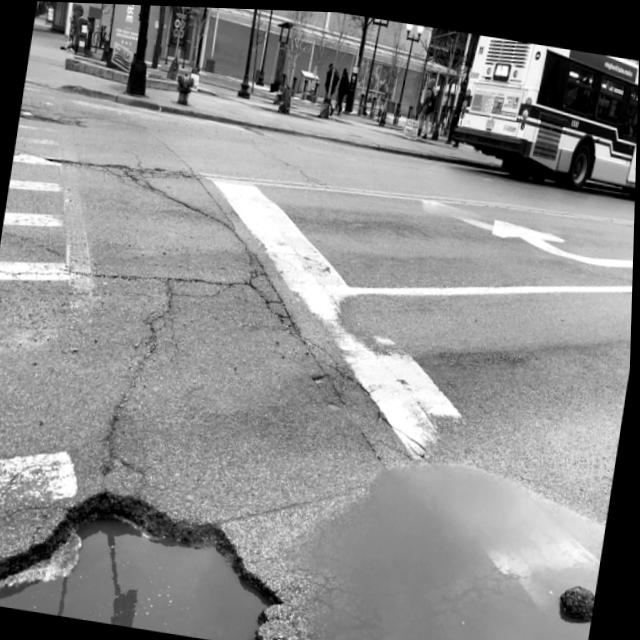pathole: (0, 510, 273, 640), (0, 517, 270, 640)
